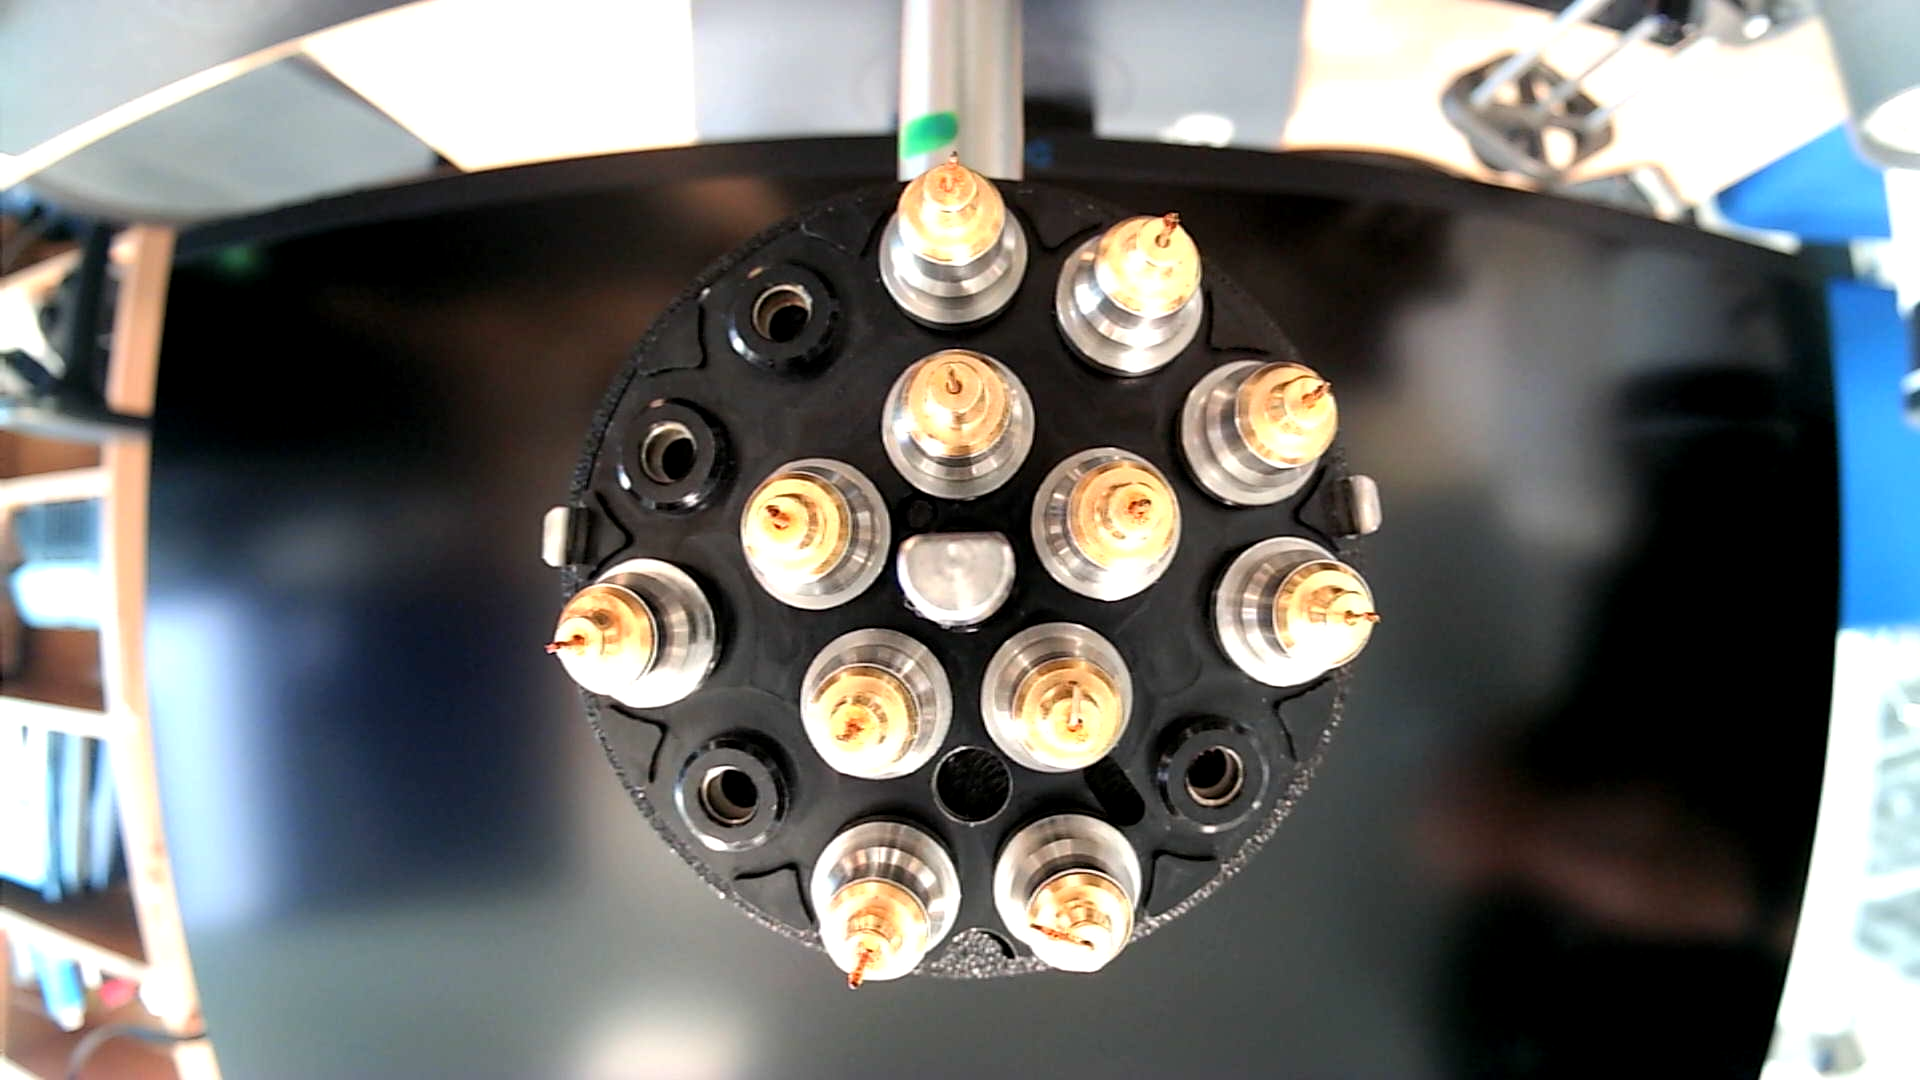bent: (992, 811, 1150, 981), (980, 617, 1138, 781)
empty: (607, 390, 738, 524), (1142, 709, 1271, 843), (720, 257, 853, 386), (670, 727, 800, 857)
hole: (930, 742, 1015, 829)
pin: (541, 553, 725, 711), (807, 814, 963, 992), (1205, 533, 1377, 690), (880, 153, 1033, 328), (1055, 208, 1207, 380), (796, 625, 956, 782), (877, 345, 1036, 502), (1029, 446, 1183, 605), (1178, 359, 1337, 513), (738, 455, 894, 611)
rod: (894, 527, 1023, 626)
